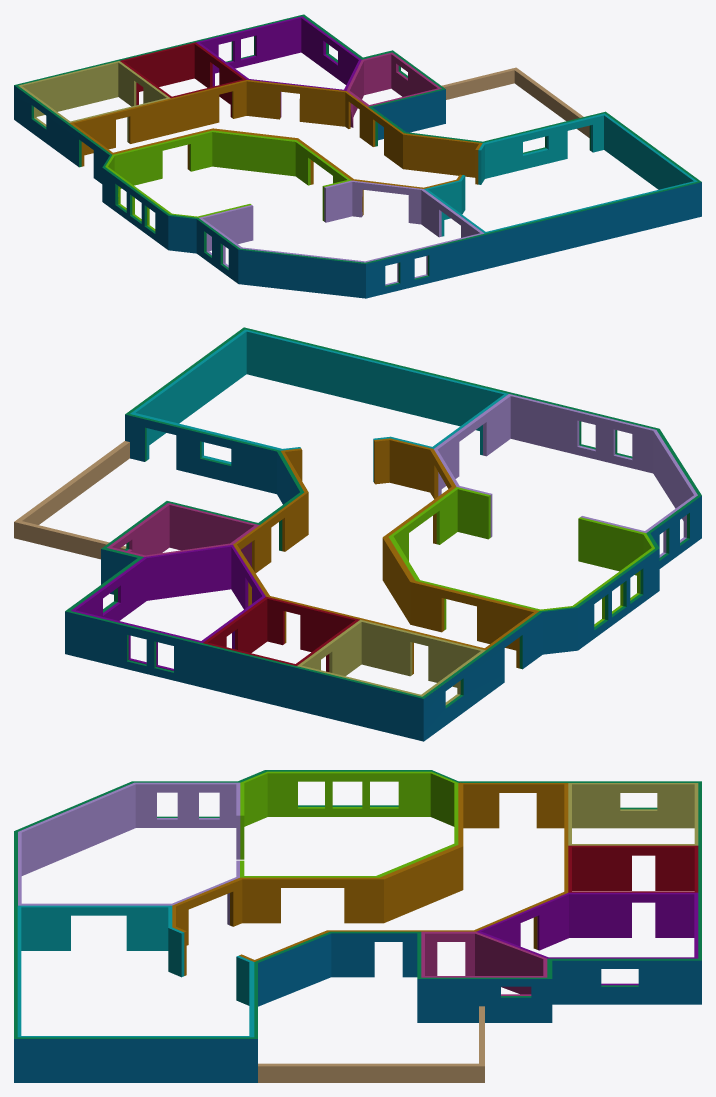
File: HouseWalls.fbx
The picture shows the model from 3 angles, top to bottom: view 1: azimuth 30°, elevation 25°; view 2: azimuth 150°, elevation 25°; view 3: azimuth 270°, elevation 25°; orthographic projection. The views are drawn at different scales.
Visible parts, largest first — view 1: OutsideWalls, HallwayWalls, KitchenWalls, DiningWalls, LivingroomWalls, NiceBedroomWalls, GrossBedroomWalls, Bathroom2Walls, Bathroom1Walls, PorchWalls; view 2: OutsideWalls, KitchenWalls, HallwayWalls, LivingroomWalls, NiceBedroomWalls, DiningWalls, GrossBedroomWalls, Bathroom1Walls, Bathroom2Walls, PorchWalls; view 3: OutsideWalls, HallwayWalls, LivingroomWalls, DiningWalls, NiceBedroomWalls, KitchenWalls, GrossBedroomWalls, Bathroom2Walls, PorchWalls, Bathroom1Walls.
Part boxes in pixels (x1,y1,x2,y2): OutsideWalls: [14, 14, 701, 298]; HallwayWalls: [69, 80, 482, 215]; KitchenWalls: [424, 113, 697, 236]; DiningWalls: [105, 130, 351, 231]; LivingroomWalls: [199, 180, 484, 285]; NiceBedroomWalls: [196, 16, 361, 117]; GrossBedroomWalls: [18, 61, 170, 142]; Bathroom2Walls: [120, 42, 246, 117]; Bathroom1Walls: [346, 52, 441, 127]; PorchWalls: [441, 67, 589, 137]; OutsideWalls: [65, 327, 701, 741]; KitchenWalls: [130, 329, 508, 481]; HallwayWalls: [233, 438, 539, 674]; LivingroomWalls: [434, 394, 697, 557]; NiceBedroomWalls: [71, 544, 265, 670]; DiningWalls: [389, 487, 654, 630]; GrossBedroomWalls: [297, 619, 485, 705]; Bathroom1Walls: [107, 503, 259, 567]; Bathroom2Walls: [203, 596, 359, 671]; PorchWalls: [14, 441, 129, 559]; OutsideWalls: [14, 770, 701, 1082]; HallwayWalls: [172, 782, 568, 975]; LivingroomWalls: [18, 782, 240, 925]; DiningWalls: [240, 771, 458, 877]; NiceBedroomWalls: [476, 892, 698, 985]; KitchenWalls: [17, 905, 254, 1037]; GrossBedroomWalls: [568, 783, 698, 845]; Bathroom2Walls: [568, 845, 698, 892]; PorchWalls: [258, 1006, 484, 1082]; Bathroom1Walls: [421, 931, 547, 995].
Bounding box in the file's own units: 34263 × 2600 × 37026.
